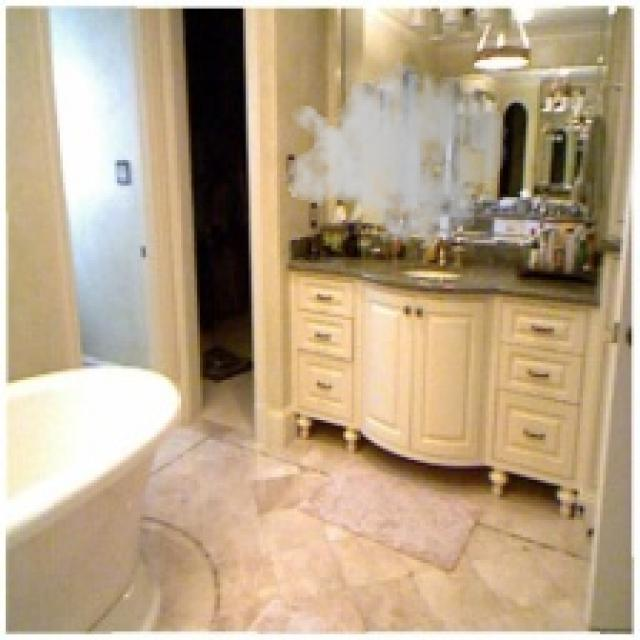smoke: (283, 49, 508, 257)
